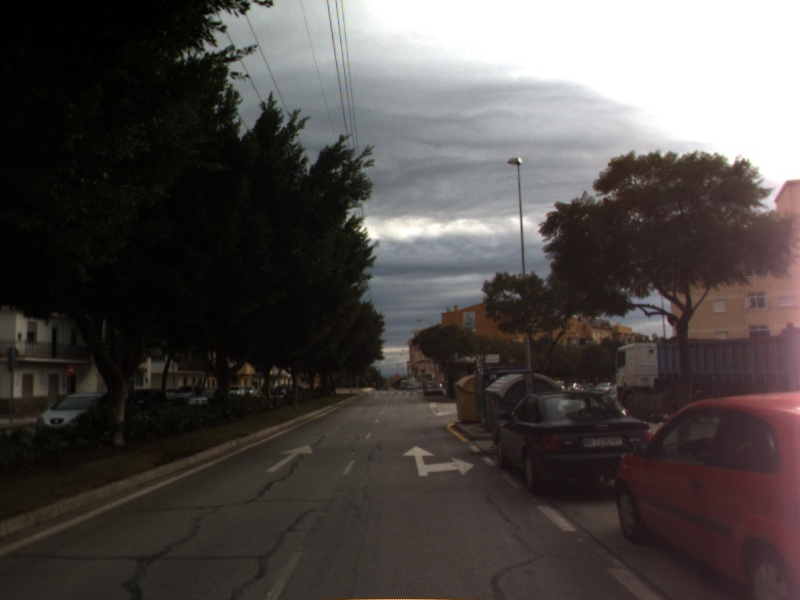STRAIGHT: (263, 442, 316, 474)
STRAIGHT_RIGHT: (400, 444, 477, 478)
